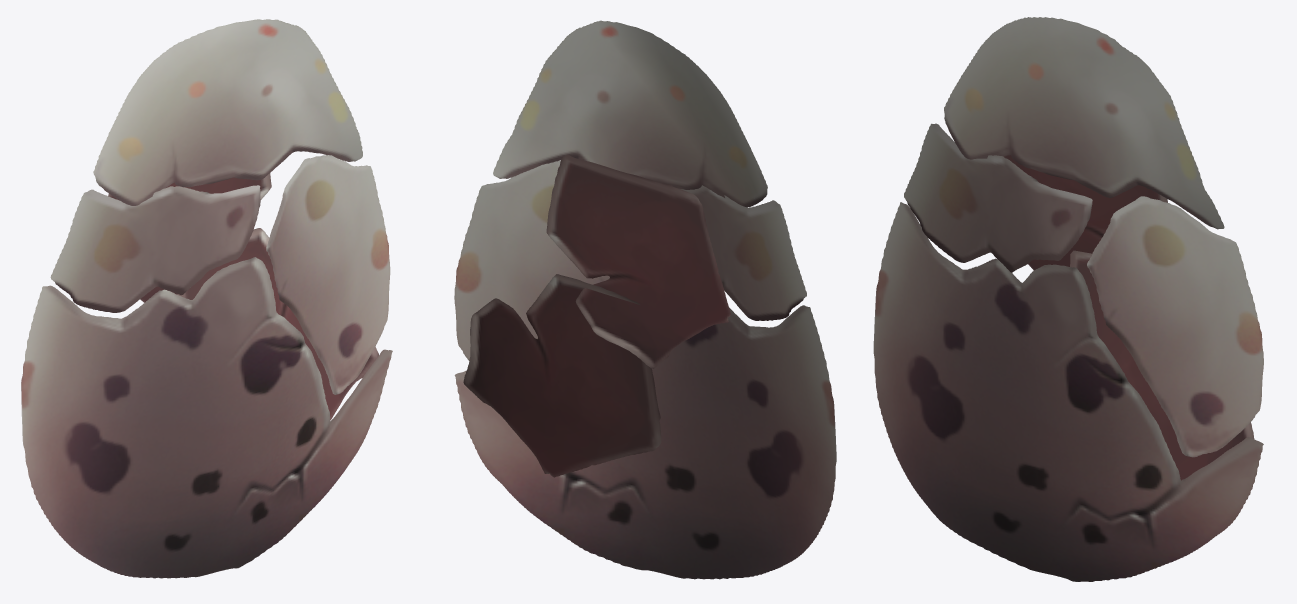
File: Griffin Egg Pieces.FBX
3 views of the same model, side by side, from view 1: azimuth 30°, elevation 25°; view 2: azimuth 150°, elevation 25°; view 3: azimuth 330°, elevation 25° (orthographic). The views are drawn at different scales.
Parts seen in each view (by area): view 1: Griffin Egg Piece Bottom, Griffin Egg Piece Top, Griffin Egg Piece Right, Griffin Egg Piece Left, Griffin Egg Piece Back; view 2: Griffin Egg Piece Bottom, Griffin Egg Piece Top, Griffin Egg Piece Back, Griffin Egg Piece Right, Griffin Egg Piece Left; view 3: Griffin Egg Piece Bottom, Griffin Egg Piece Top, Griffin Egg Piece Right, Griffin Egg Piece Left, Griffin Egg Piece Back.
Boxes of the visible parts, box(x1,y1,x2,y2) form: Griffin Egg Piece Bottom: box(21, 228, 392, 578); Griffin Egg Piece Top: box(93, 19, 362, 205); Griffin Egg Piece Right: box(266, 155, 390, 394); Griffin Egg Piece Left: box(50, 185, 260, 312); Griffin Egg Piece Back: box(108, 173, 271, 302); Griffin Egg Piece Bottom: box(454, 274, 836, 579); Griffin Egg Piece Top: box(493, 20, 767, 207); Griffin Egg Piece Back: box(546, 155, 730, 368); Griffin Egg Piece Right: box(454, 160, 609, 360); Griffin Egg Piece Left: box(679, 185, 806, 320); Griffin Egg Piece Bottom: box(873, 202, 1263, 581); Griffin Egg Piece Top: box(944, 17, 1224, 229); Griffin Egg Piece Right: box(1087, 196, 1263, 457); Griffin Egg Piece Left: box(904, 123, 1092, 272); Griffin Egg Piece Back: box(1003, 155, 1167, 270).
Size of the model in its own units: 181 by 31.84 by 245.
